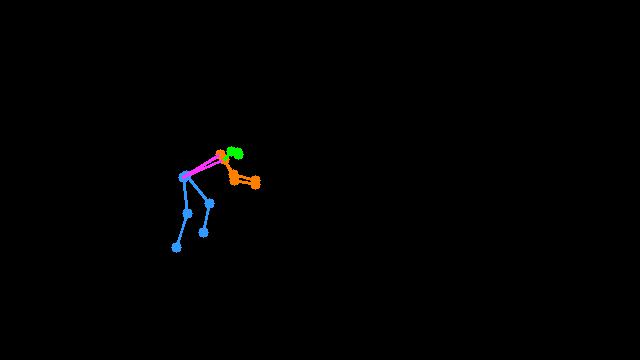normal: (156, 126, 267, 272)
